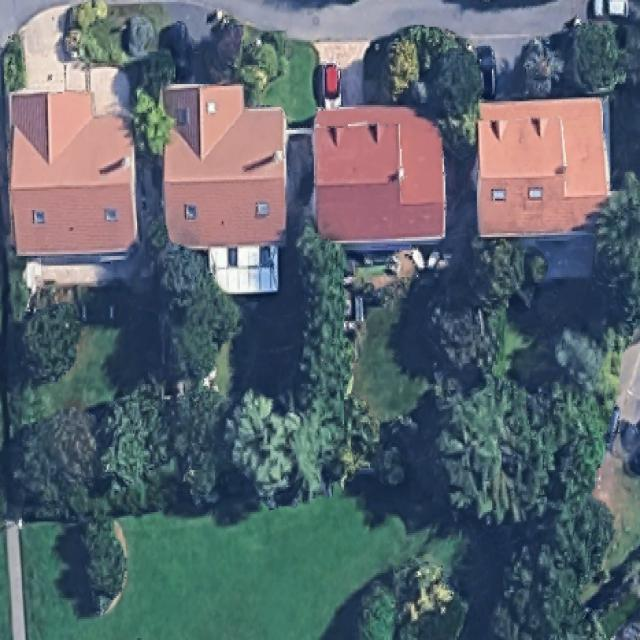maison: (8, 91, 136, 260), (162, 85, 285, 251), (313, 104, 445, 252), (473, 99, 610, 235)
